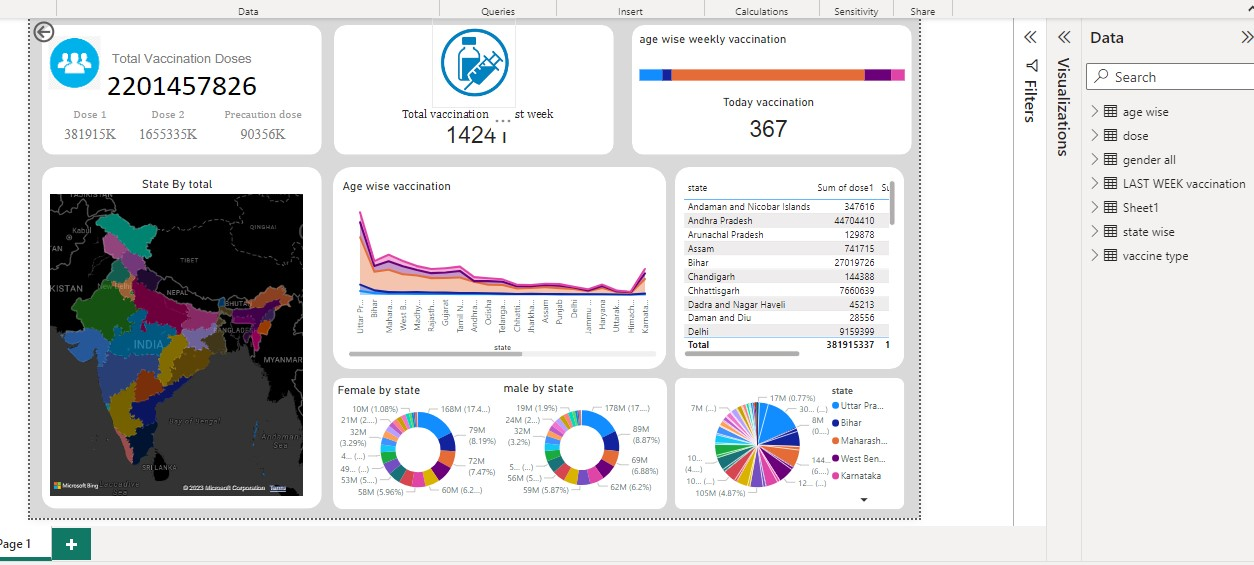

This screenshot's page, from the dashboard's own definition file:
{"tool":"powerbi","page":{"name":"Page 1","canvas":[1280,720],"ordinal":0},"visuals":[{"type":"shape","box":[17.3,10.1,403.2,187.2],"z":0},{"type":"shape","box":[437.8,10.1,403.2,187.2],"z":1000},{"type":"shape","box":[866.9,10.1,403.2,187.2],"z":2000},{"type":"shape","box":[17.3,214.6,403.2,492.5],"z":3000},{"type":"shape","box":[436.3,214.6,479.5,290.9],"z":4000},{"type":"shape","box":[928.8,214.6,329.8,290.9],"z":5000},{"type":"shape","box":[436.3,518.4,481,188.6],"z":6000},{"type":"shape","box":[929,518,330,189],"z":7000},{"type":"card","title":"Total Vaccination Doses","fields":{"Values":["Sum(state wise.total)"]},"box":[64.8,44.6,306.7,73.4],"z":8000},{"type":"card","title":"Dose 1","fields":{"Values":["Sum(dose.dose1)"]},"box":[30.2,129.6,112.3,57.6],"z":9000},{"type":"card","title":"Dose 2","fields":{"Values":["Sum(dose.dose2)"]},"box":[142.6,129.6,112.3,57.6],"z":10000},{"type":"card","title":"Precaution dose","fields":{"Values":["Sum(dose.precaution dose)"]},"box":[266.4,129.6,138.2,57.6],"z":11000},{"type":"filledMap","title":"State  By total","fields":{"Series":["state wise.total"],"Category":["state wise.title"]},"box":[24.5,229,374.4,463.7],"z":12000},{"type":"donutChart","title":"Female by state","fields":{"Y":["Sum(gender all.female )"],"Category":["gender all.state"]},"box":[437.8,525.6,241.9,172.8],"z":13000},{"type":"donutChart","title":"male by state","fields":{"Category":["gender all.state"],"Y":["Sum(gender all.male)"]},"box":[676.8,522.7,236.2,172.8],"z":14000},{"type":"stackedAreaChart","title":"Age wise vaccination","fields":{"Category":["age wise.state"],"Y":["Sum(age wise.vac_12_14)","Sum(age wise.vac_15_17)","Sum(age wise.vac_18_45)","Sum(age wise.vac_45_60)","Sum(age wise.above_60)"]},"box":[445,231.8,462.2,260.6],"z":15000},{"type":"pieChart","fields":{"Y":["Sum(vaccine type.corbevax)","Sum(vaccine type.covaxin)","Sum(vaccine type.covishield)","CountNonNull(vaccine type.covovax)","CountNonNull(vaccine type.sputnik v)"],"Category":["vaccine type.state"]},"box":[936,522.7,315.4,184.3],"z":16000},{"type":"card","title":"Total vaccination by last week","fields":{"Values":["Sum(LAST WEEK vaccination.total)"]},"box":[493.9,129.6,301,57.6],"z":17000},{"type":"image","box":[578.9,0,121,129.6],"z":18000},{"type":"image","box":[21.6,20.2,85,87.8],"z":19000},{"type":"hundredPercentStackedBarChart","title":"age wise weekly vaccination","fields":{"Y":["Sum(LAST WEEK vaccination.vac_12_14)","Sum(LAST WEEK vaccination.vac_15_17)","Sum(LAST WEEK vaccination.vac_18_45)","Sum(LAST WEEK vaccination.vac_45_60)","Sum(LAST WEEK vaccination.vac_60_above)"]},"box":[872.6,20.2,391.7,97.9],"z":20000},{"type":"card","title":"Today vaccination","fields":{"Values":["Sum(state wise.today)"]},"box":[913,110.9,301,76.3],"z":21000},{"type":"actionButton","box":[0,0,100,40],"z":22000},{"type":"tableEx","fields":{"Values":["dose.state","Sum(dose.dose1)","Sum(dose.dose2)","Sum(dose.precaution dose)"]},"box":[936,229,315.4,263.5],"z":22001}]}

Visuals, with their boxes on the page's 1280x720 design canvas (x1, y1, x2, y2). These are canvas units, not pixel positions in the 1254x565 screenshot, which may show the page scaled, cropped or inside an application window:
shape: region(17, 10, 420, 197)
shape: region(438, 10, 841, 197)
shape: region(867, 10, 1270, 197)
shape: region(17, 215, 420, 707)
shape: region(436, 215, 916, 506)
shape: region(929, 215, 1259, 506)
shape: region(436, 518, 917, 707)
shape: region(929, 518, 1259, 707)
"Total Vaccination Doses" card: region(65, 45, 372, 118)
"Dose 1" card: region(30, 130, 142, 187)
"Dose 2" card: region(143, 130, 255, 187)
"Precaution dose" card: region(266, 130, 405, 187)
"State  By total" filledMap: region(24, 229, 399, 693)
"Female by state" donutChart: region(438, 526, 680, 698)
"male by state" donutChart: region(677, 523, 913, 696)
"Age wise vaccination" stackedAreaChart: region(445, 232, 907, 492)
pieChart - Sum(vaccine type.corbevax) x Sum(vaccine type.covaxin): region(936, 523, 1251, 707)
"Total vaccination by last week" card: region(494, 130, 795, 187)
image: region(579, 0, 700, 130)
image: region(22, 20, 107, 108)
"age wise weekly vaccination" hundredPercentStackedBarChart: region(873, 20, 1264, 118)
"Today vaccination" card: region(913, 111, 1214, 187)
actionButton: region(0, 0, 100, 40)
tableEx - dose.state x Sum(dose.dose1): region(936, 229, 1251, 492)
